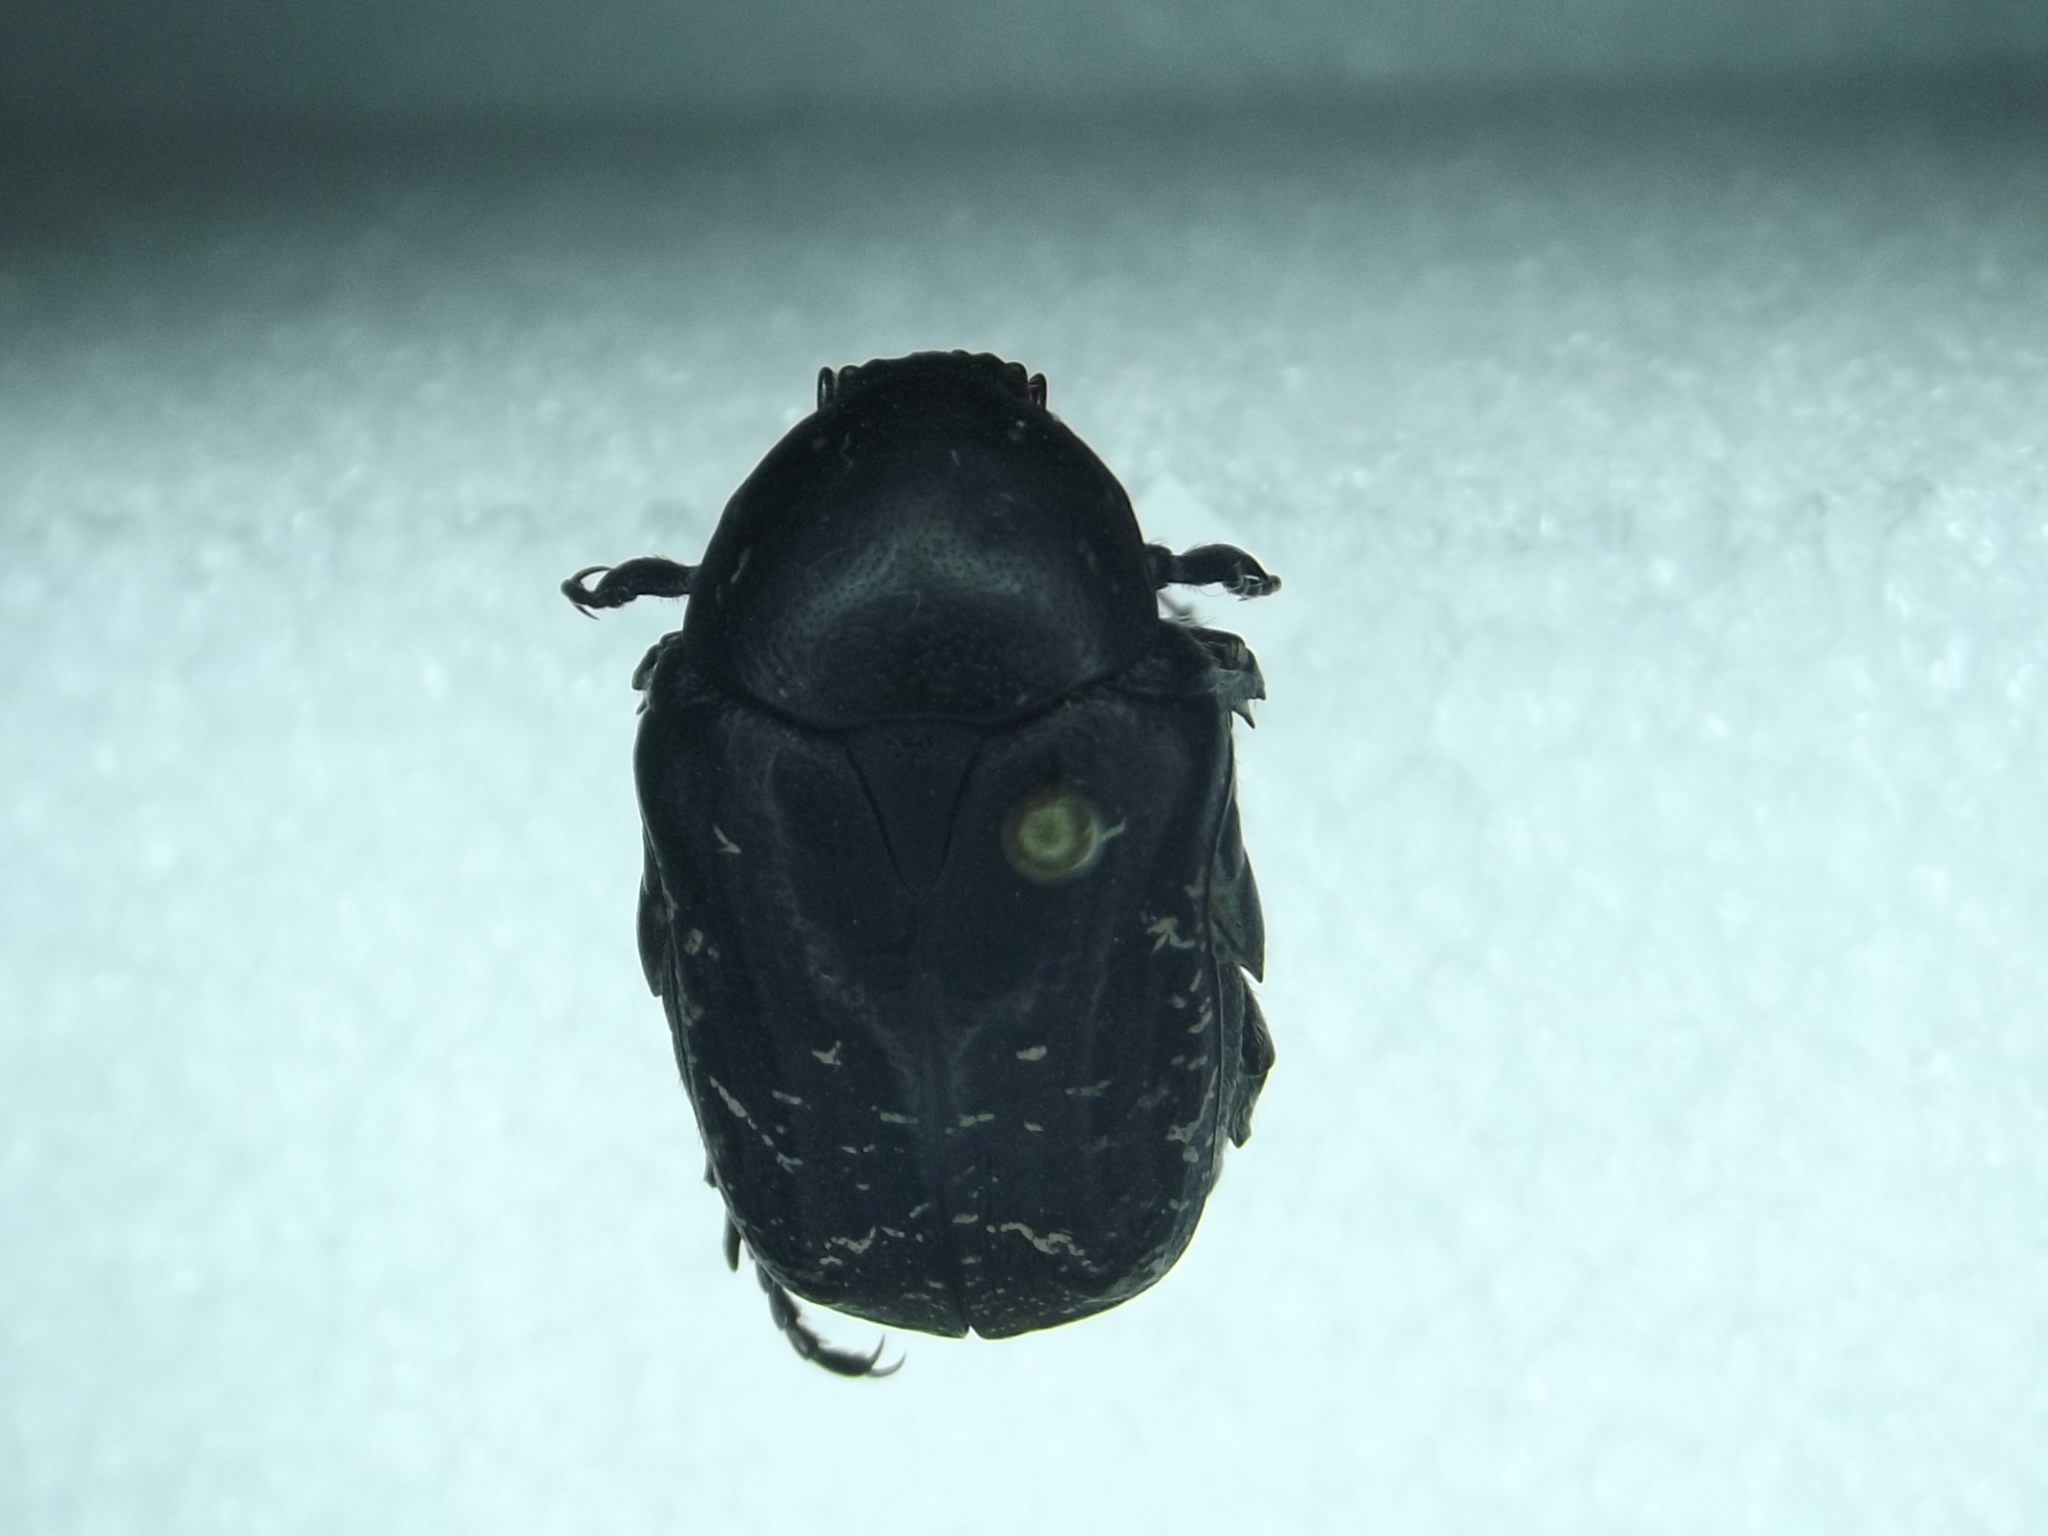Protaetia_oblonga: (563, 332, 1306, 1400)
